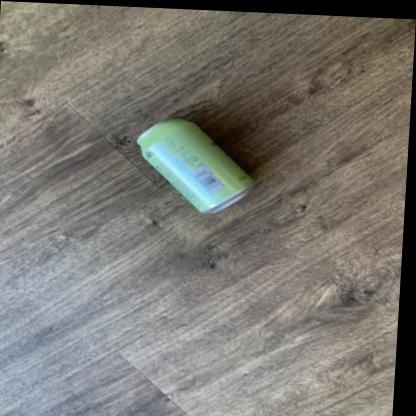trash: (137, 118, 253, 212)
